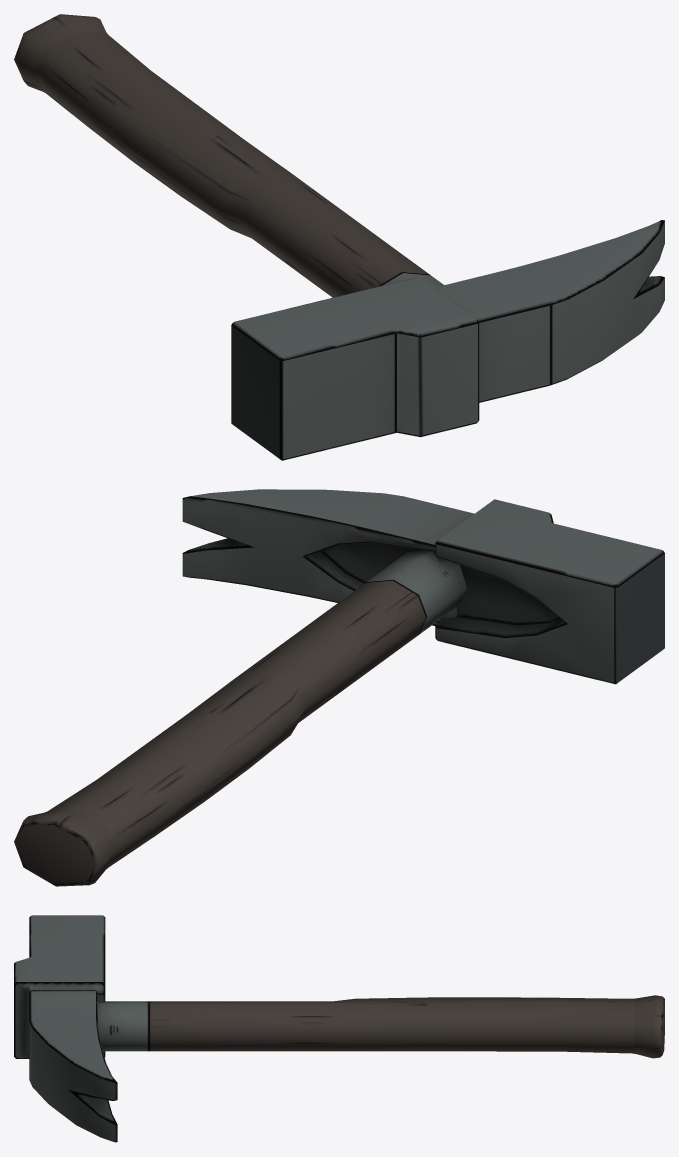
The model's file is wpn_hammer.glb.
The picture shows the model from 3 angles, top to bottom: view 1: azimuth 30°, elevation 25°; view 2: azimuth 150°, elevation 25°; view 3: azimuth 270°, elevation 25°; orthographic projection. The views are drawn at different scales.
Visible parts, largest first — view 1: SM_WP_020_00; view 2: SM_WP_020_00; view 3: SM_WP_020_00.
Boxes of the visible parts, bbox=[...] form: SM_WP_020_00: bbox=[14, 14, 664, 460]; SM_WP_020_00: bbox=[14, 489, 664, 886]; SM_WP_020_00: bbox=[14, 915, 664, 1142].
Size of the model in its own units: 0.1846 by 0.0413 by 0.3175.
Materials: 3 (3 with a texture image).
